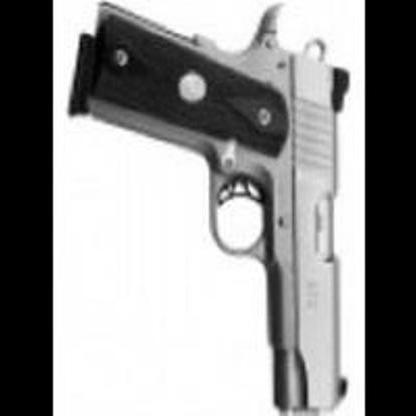weapon: (71, 3, 354, 416)
